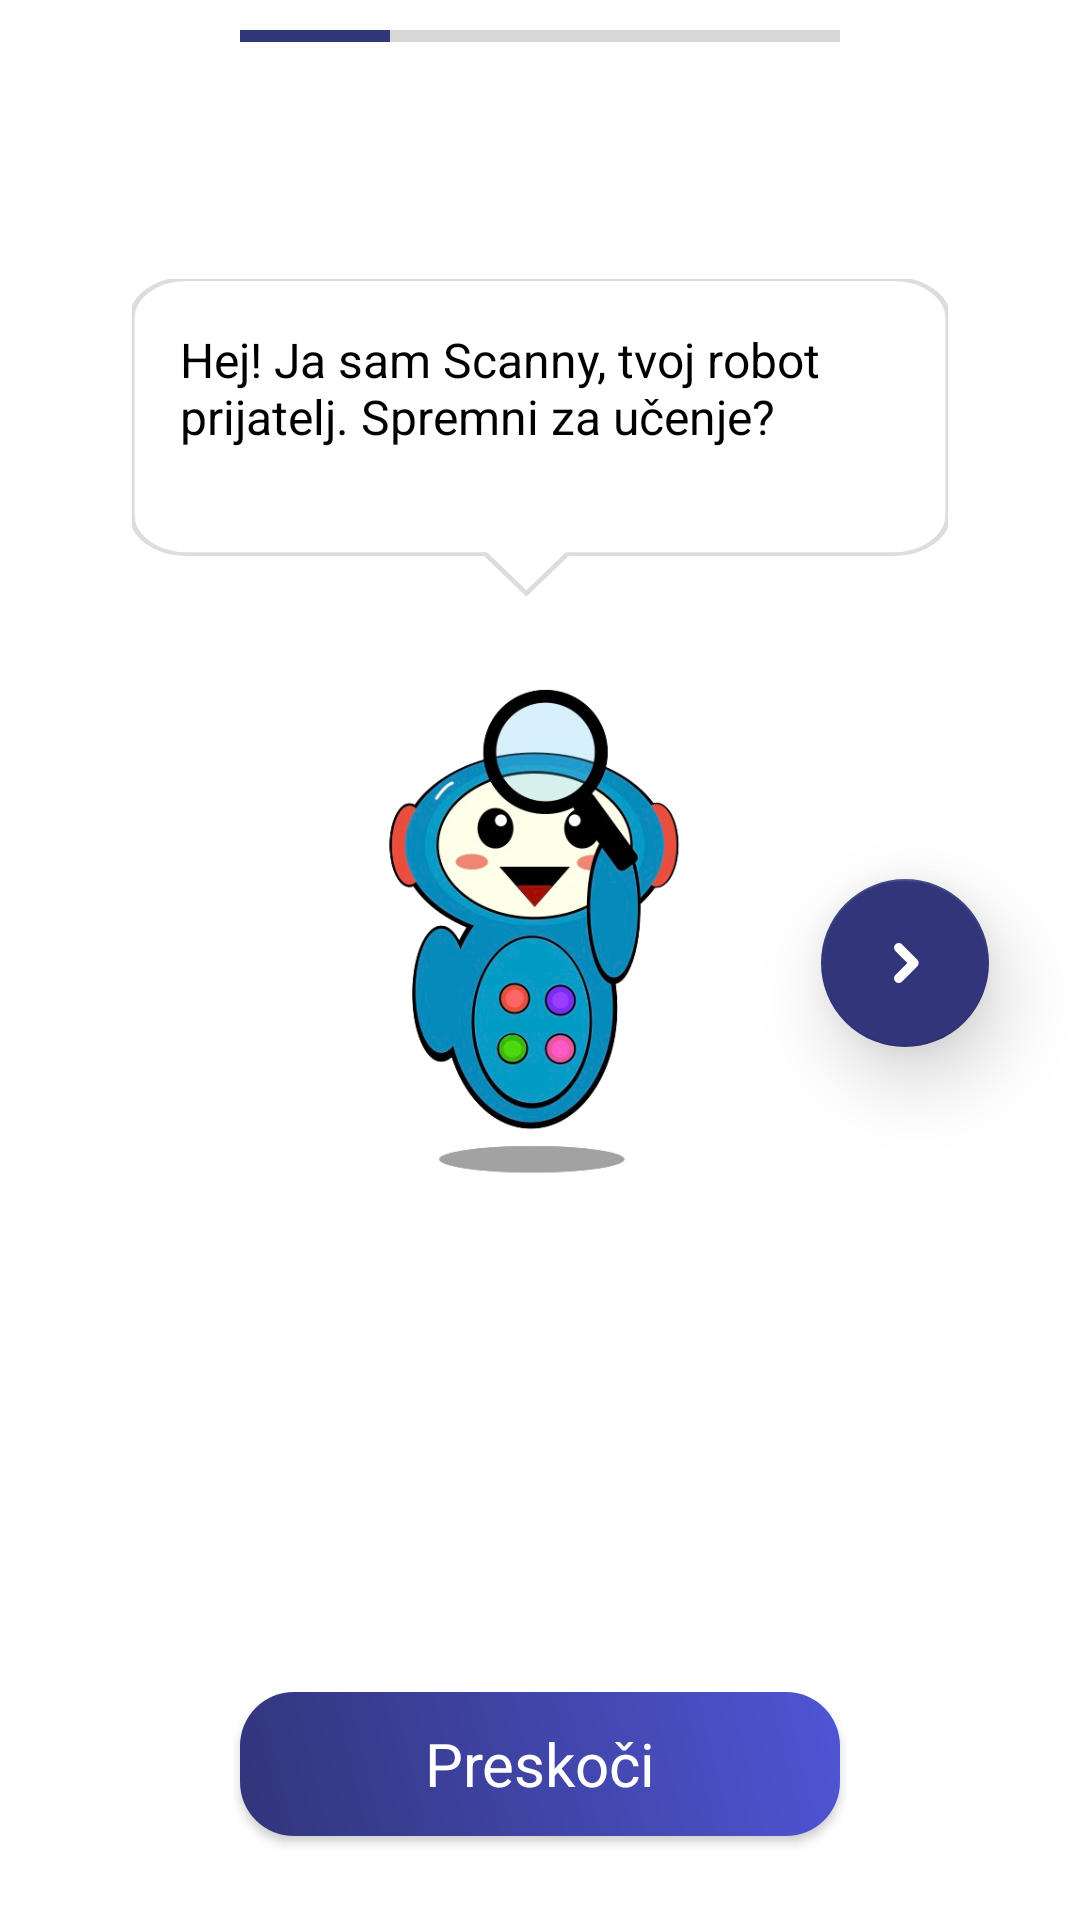

Locate icon controls on the screen. Image size 1080 × 1920, boxes as (x1, y1, x2, y2).
Next arrow: (821, 879, 989, 1047)
